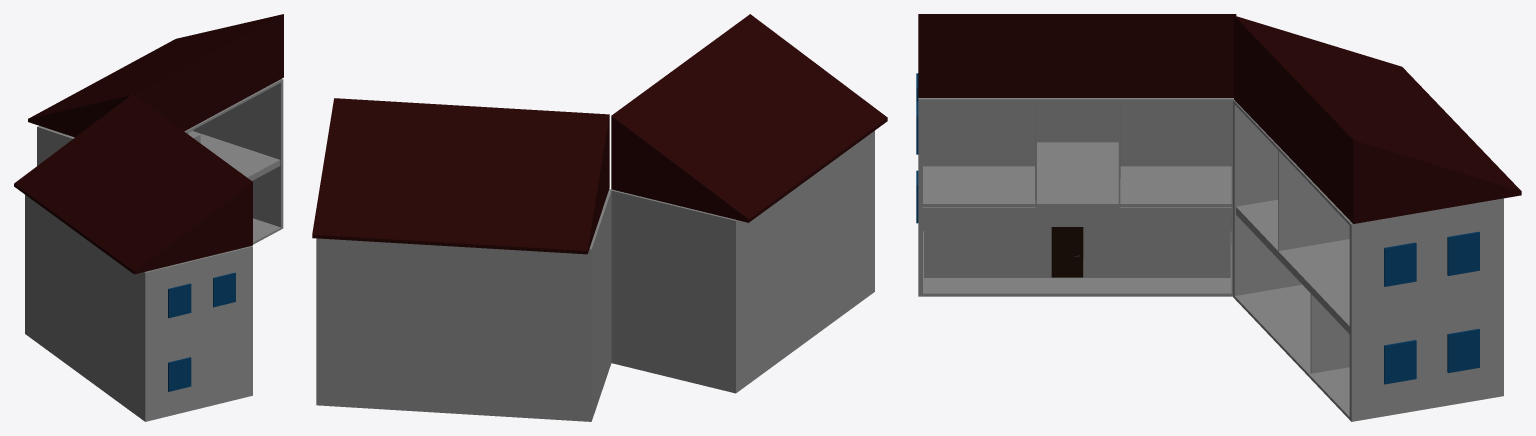
The model's file is Puppet_house.dae.
3 renders of one model, left to right at view 1: azimuth 30°, elevation 25°; view 2: azimuth 150°, elevation 25°; view 3: azimuth 270°, elevation 25°, orthographic. The views are drawn at different scales.
Visible parts, largest first — view 1: pCube30; view 2: pCube30; view 3: pCube30.
Part boxes in pixels (x1,y1,x2,y2): pCube30: [14, 14, 283, 421]; pCube30: [312, 14, 887, 421]; pCube30: [916, 14, 1521, 421].
Size of the model in its own units: 3.53 by 2.32 by 4.45.
